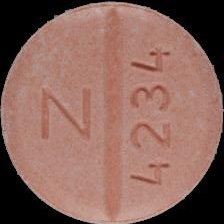0093-4234: (0, 0, 224, 224)
